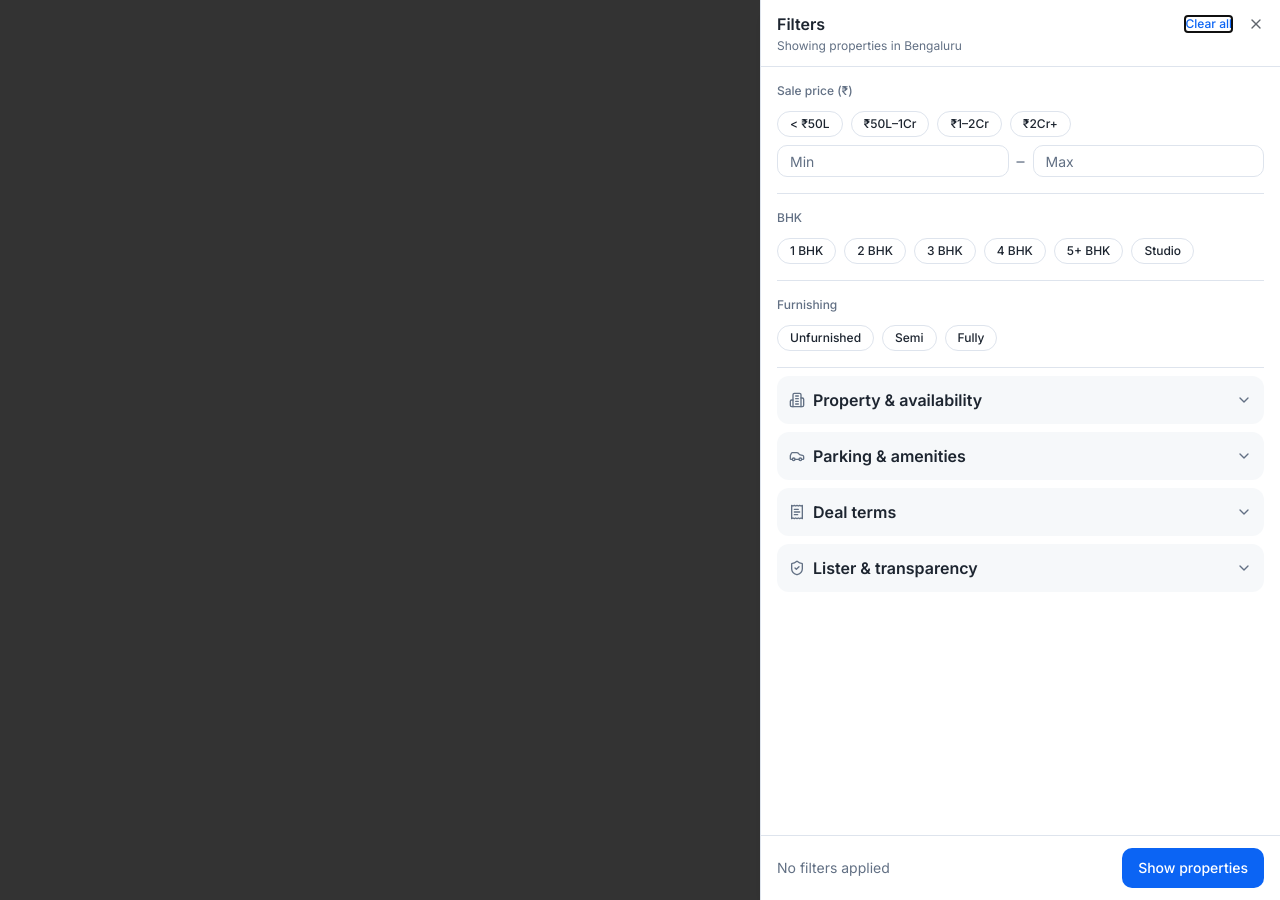
Test: Rent/Buy visibility › shows Possession section in buy (Property & availability group)
Click the button "Property & availability" at coordinates (898, 400), box x1=777 y1=376 x2=1264 y2=424
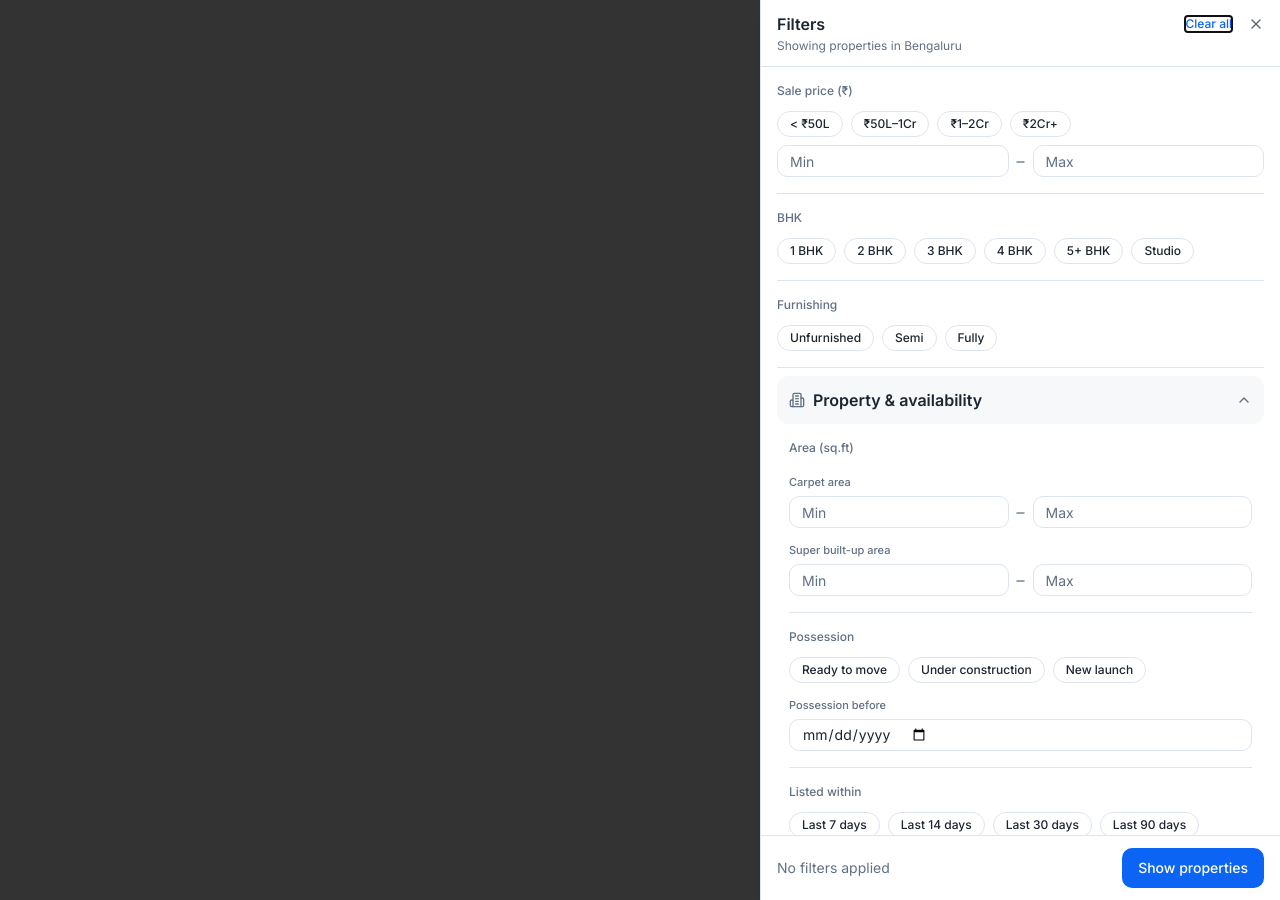
Expected: the heading "Possession" is shown, x1=789 y1=629 x2=854 y2=645
